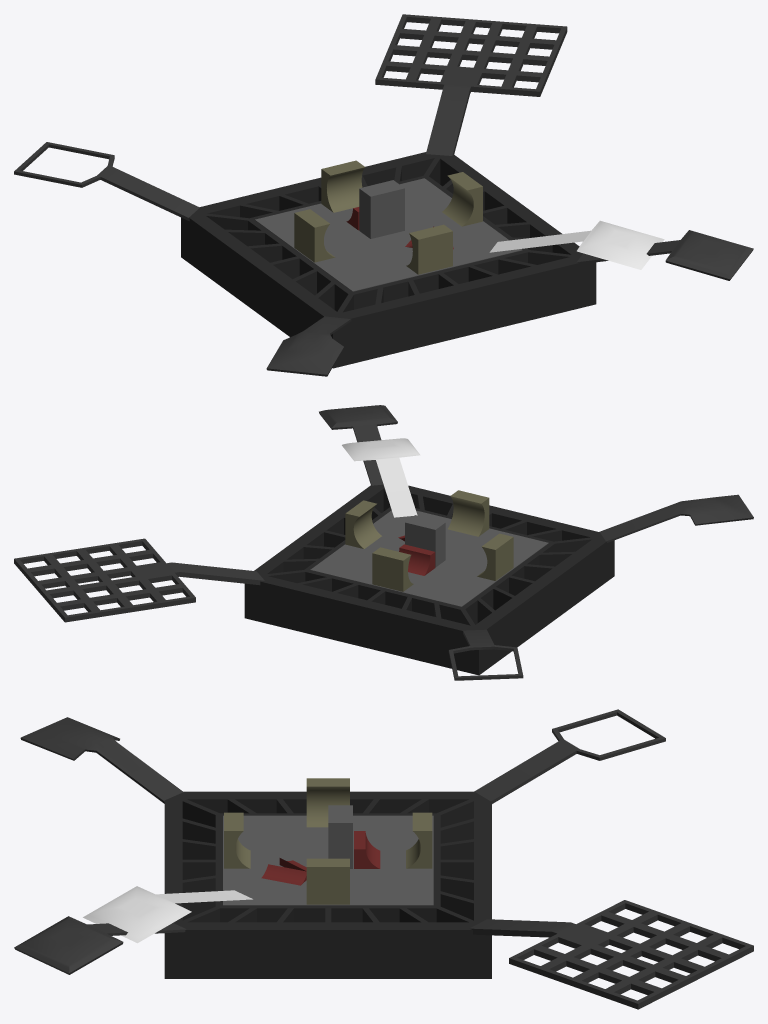
File: sumo_location01.fbx
3 renders of one model, top to bottom at view 1: azimuth 30°, elevation 25°; view 2: azimuth 150°, elevation 25°; view 3: azimuth 270°, elevation 25°, orthographic. The views are drawn at different scales.
Visible parts, largest first — view 1: Plane.005, Plane.002, floor, Plane.004, Plane.001, Plane, Plane.003, floor.001, Cube.002, Cube.003, Cube.001, Cube; view 2: Plane.005, Plane.002, floor, Plane, Plane.004, Plane.001, Cube.003, Cube.002, floor.001, Plane.003, Cube.001, Cube (+1 smaller); view 3: Plane.005, Plane.002, floor, Plane, Plane.004, Plane.001, Plane.003, Cube.001, Cube, floor.001, Cube.002, Cube.003 (+2 smaller).
Part boxes in pixels (<box>): Plane.005: <box>181,152,596,368</box>; Plane.002: <box>375,14,567,155</box>; floor: <box>255,178,522,291</box>; Plane.004: <box>489,220,664,269</box>; Plane.001: <box>577,230,753,280</box>; Plane: <box>266,316,351,376</box>; Plane.003: <box>14,142,199,221</box>; floor.001: <box>359,180,404,238</box>; Cube.002: <box>321,160,365,212</box>; Cube.003: <box>406,224,452,274</box>; Cube.001: <box>442,172,482,226</box>; Cube: <box>294,209,335,262</box>; Plane.005: <box>244,484,614,675</box>; Plane.002: <box>14,538,264,622</box>; floor: <box>310,510,548,606</box>; Plane: <box>599,494,753,542</box>; Plane.004: <box>342,438,420,517</box>; Plane.001: <box>319,405,397,485</box>; Cube.003: <box>448,490,489,536</box>; Cube.002: <box>372,547,413,591</box>; floor.001: <box>405,515,445,567</box>; Plane.003: <box>448,629,523,680</box>; Cube.001: <box>345,500,381,548</box>; Cube: <box>477,533,513,580</box>; Plane.005: <box>164,791,491,978</box>; Plane.002: <box>469,900,753,1009</box>; floor: <box>223,815,433,905</box>; Plane: <box>20,717,183,803</box>; Plane.004: <box>83,886,252,943</box>; Plane.001: <box>14,916,186,974</box>; Plane.003: <box>474,709,665,803</box>; Cube.001: <box>306,858,349,904</box>; Cube: <box>306,778,349,827</box>; floor.001: <box>328,805,352,868</box>; Cube.002: <box>406,812,432,868</box>; Cube.003: <box>224,812,250,868</box>.
Size of the model in its own units: 20013 by 3389 by 21057.
